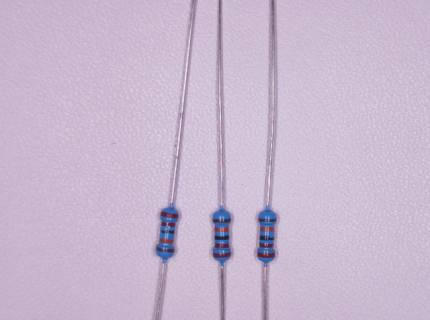Black band: (215, 235, 229, 240), (260, 235, 274, 240), (160, 230, 175, 234)
Brown band: (157, 246, 174, 253), (260, 218, 277, 222), (213, 219, 231, 222)
Orange band: (160, 238, 173, 244), (215, 227, 229, 232), (261, 227, 274, 231)
Red band: (161, 212, 178, 218), (213, 252, 230, 258), (258, 253, 275, 258), (215, 243, 229, 248), (162, 222, 175, 227), (260, 243, 273, 247)
